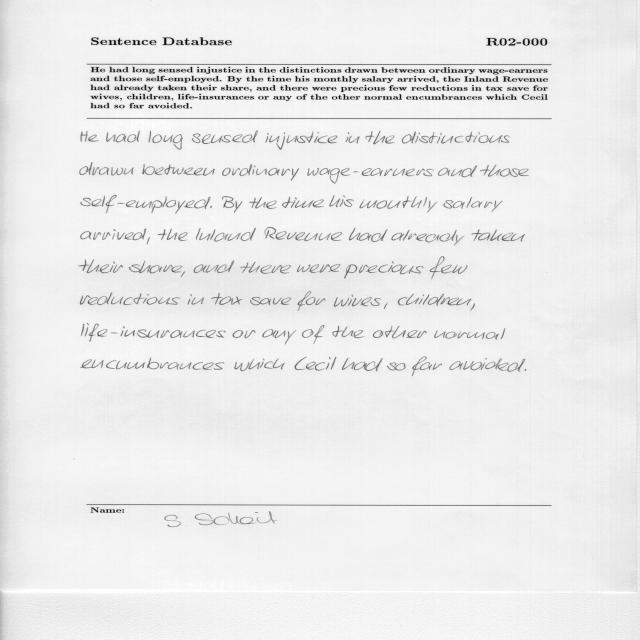word: (81, 323, 226, 342), (81, 195, 210, 214), (307, 168, 434, 184), (81, 357, 224, 370), (344, 261, 424, 279), (402, 131, 510, 144), (360, 196, 438, 213), (222, 164, 299, 181), (80, 292, 180, 305), (266, 132, 338, 150), (392, 230, 465, 246), (265, 227, 342, 241), (450, 358, 526, 372), (443, 197, 503, 212), (142, 164, 215, 176), (398, 294, 471, 306), (192, 131, 258, 144), (434, 328, 505, 340), (430, 257, 468, 279), (196, 228, 256, 241), (81, 229, 146, 240), (80, 163, 133, 176), (472, 229, 525, 242), (235, 359, 285, 372), (373, 326, 427, 338), (149, 131, 183, 150), (129, 261, 182, 273), (79, 260, 123, 274), (334, 294, 381, 307), (241, 262, 291, 274), (480, 165, 529, 177), (412, 357, 442, 376), (295, 357, 337, 370), (263, 329, 297, 345), (298, 291, 325, 311), (342, 358, 383, 371), (349, 228, 387, 242), (194, 261, 234, 273), (438, 166, 477, 178), (282, 197, 324, 208), (302, 325, 325, 344), (297, 264, 341, 273), (332, 326, 365, 338), (158, 228, 188, 241), (211, 293, 243, 305), (366, 131, 395, 144), (106, 131, 140, 142), (222, 196, 242, 213), (249, 197, 277, 209), (250, 297, 291, 305), (329, 195, 354, 207), (81, 131, 99, 142), (188, 294, 205, 305), (233, 330, 255, 338), (346, 132, 360, 144), (387, 363, 406, 371), (470, 304, 475, 311), (147, 237, 150, 245), (181, 271, 185, 277), (384, 303, 388, 309), (210, 206, 212, 208), (525, 369, 527, 371)
